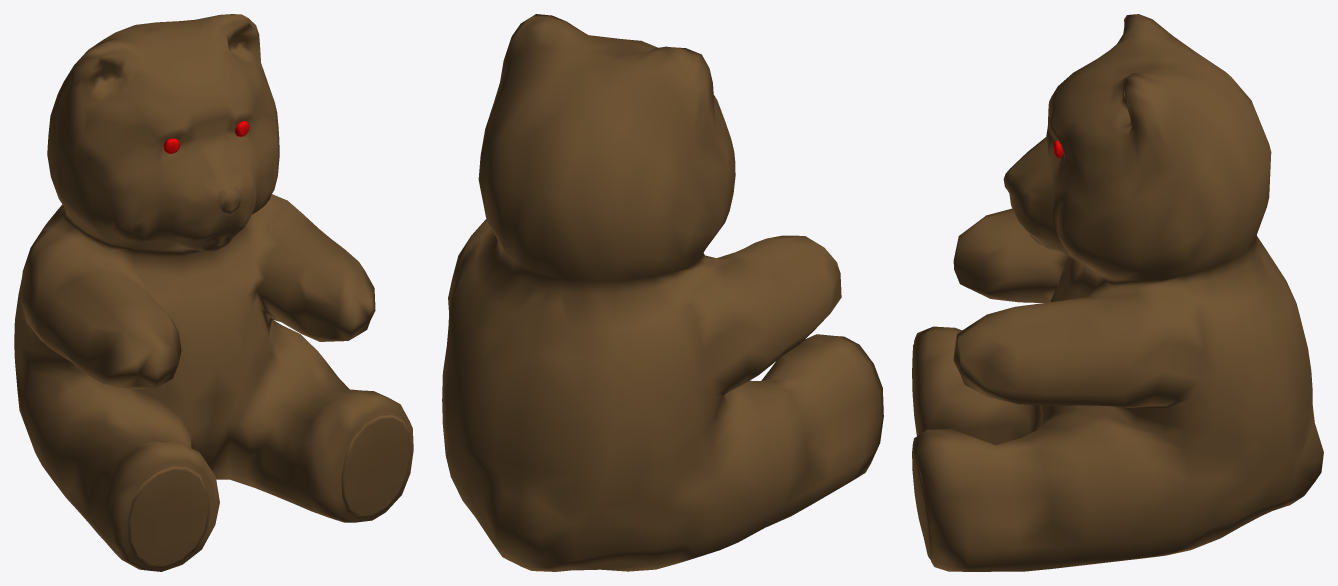
File: bearfinal.fbx
3 views of the same model, side by side, from view 1: azimuth 30°, elevation 25°; view 2: azimuth 150°, elevation 25°; view 3: azimuth 270°, elevation 25° (orthographic). The views are drawn at different scales.
Visible parts, largest first — view 1: Bear:Mesh; view 2: Bear:Mesh; view 3: Bear:Mesh.
Part boxes in pixels (x1=…): Bear:Mesh: x1=14, y1=14, x2=413, y2=571; Bear:Mesh: x1=442, y1=14, x2=883, y2=571; Bear:Mesh: x1=912, y1=14, x2=1323, y2=571.
Size of the model in its own units: 10.24 by 14.96 by 11.72.
